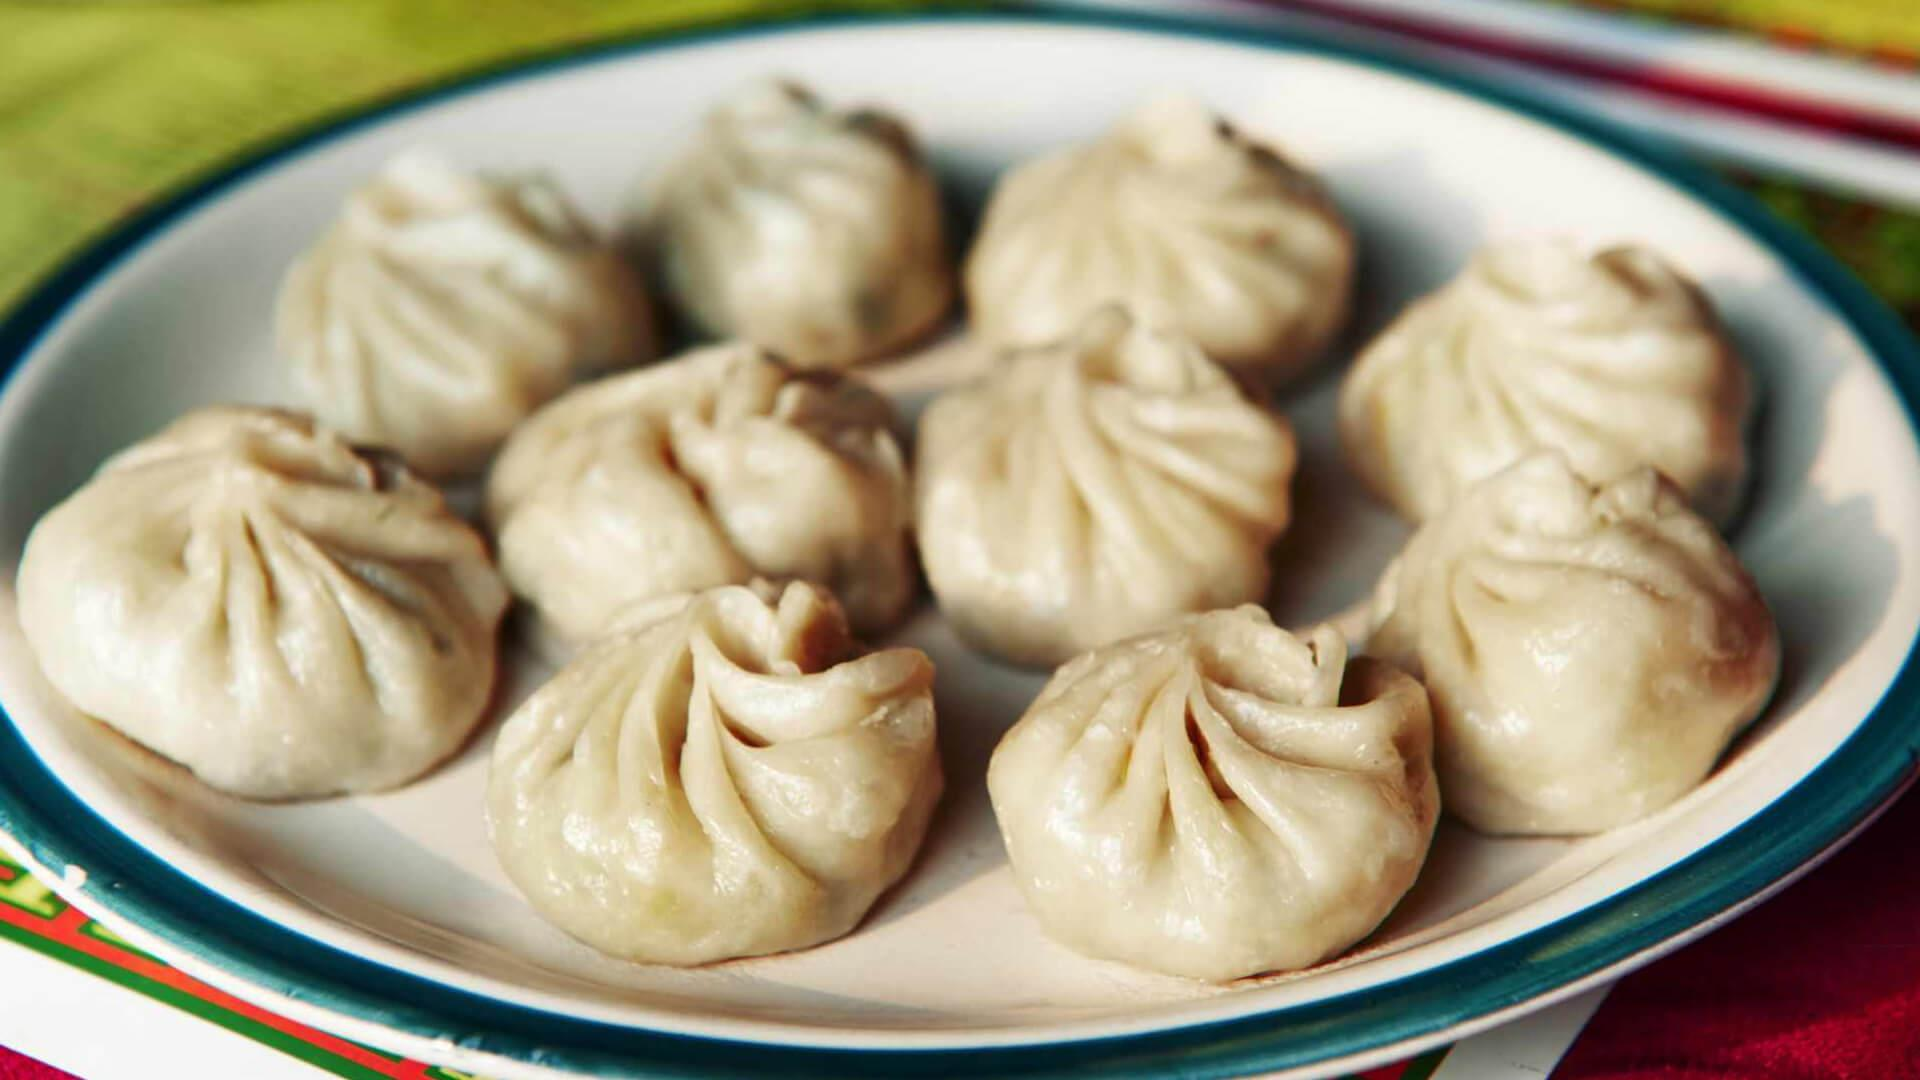momos: (915, 307, 1778, 978), (18, 405, 506, 799), (488, 582, 942, 964), (488, 345, 915, 657), (277, 146, 657, 476), (1338, 236, 1751, 529), (964, 98, 1354, 394), (657, 79, 952, 368)
